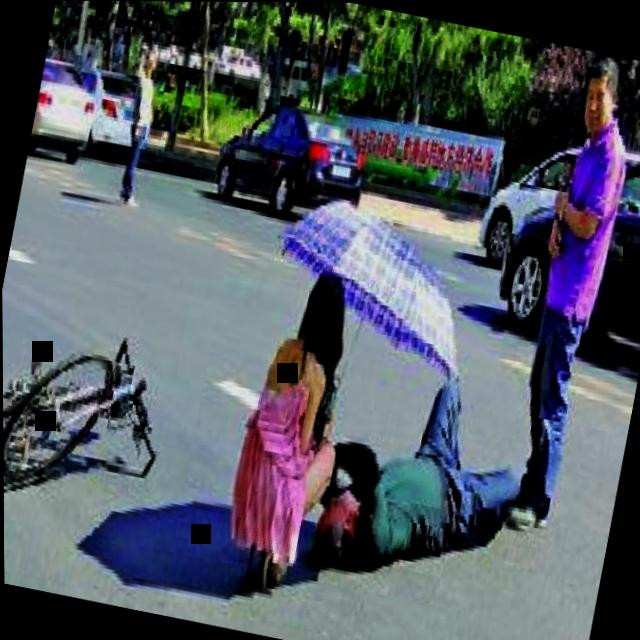Fall-Detected: (287, 334, 547, 619)
